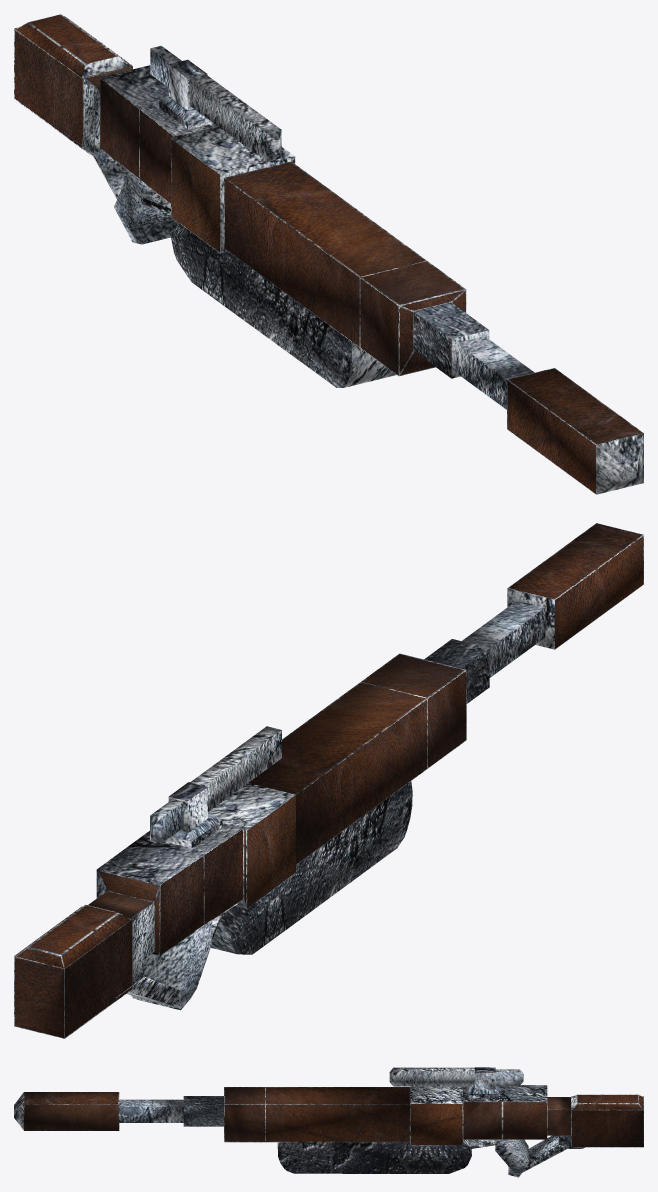
The model's file is assualtrifle.fbx.
3 renders of one model, top to bottom at view 1: azimuth 30°, elevation 25°; view 2: azimuth 150°, elevation 25°; view 3: azimuth 270°, elevation 25°, orthographic. The views are drawn at different scales.
Parts seen in each view (by area): view 1: Assualt; view 2: Assualt; view 3: Assualt.
Boxes of the visible parts, x1,y1,x2,y2 form: Assualt: (14,14,643,494); Assualt: (14,523,643,1038); Assualt: (14,1067,643,1177).
Size of the model in its own units: 33.7 by 82.09 by 460.
